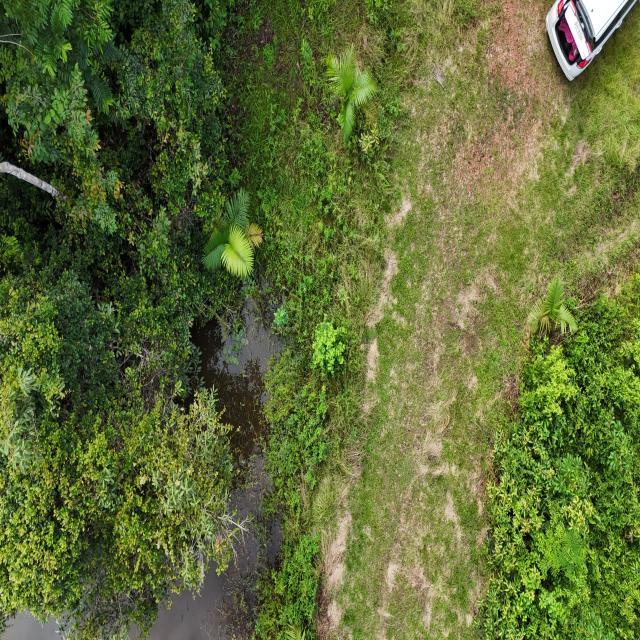vegetation: (471, 274, 639, 638)
